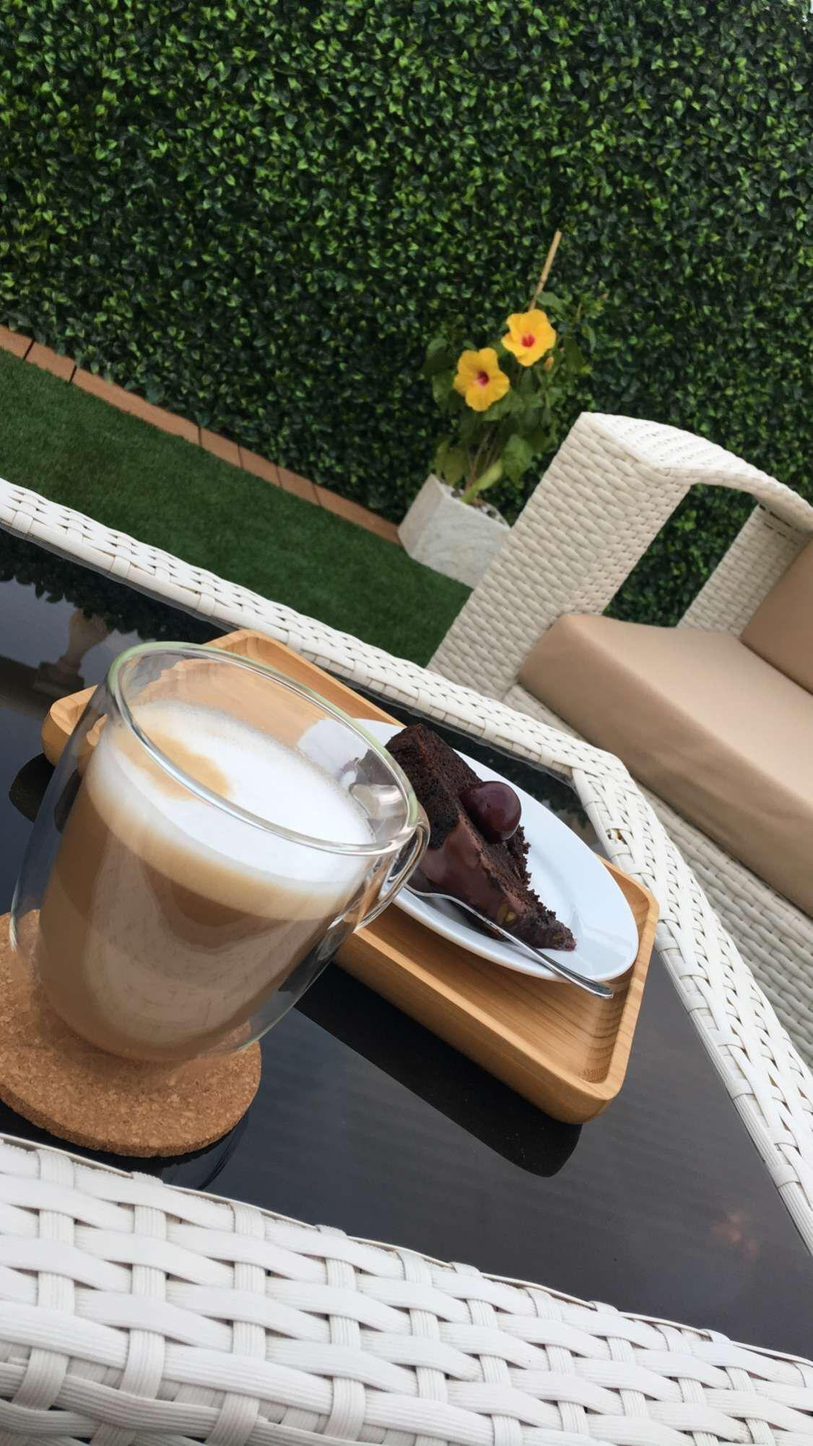glass-mug: (18, 641, 434, 1076)
